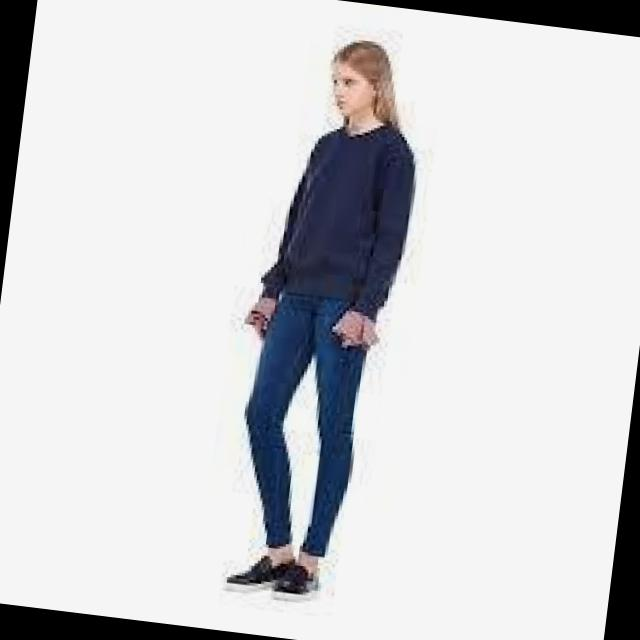pants: (225, 282, 382, 566)
sweater: (263, 104, 423, 324)
